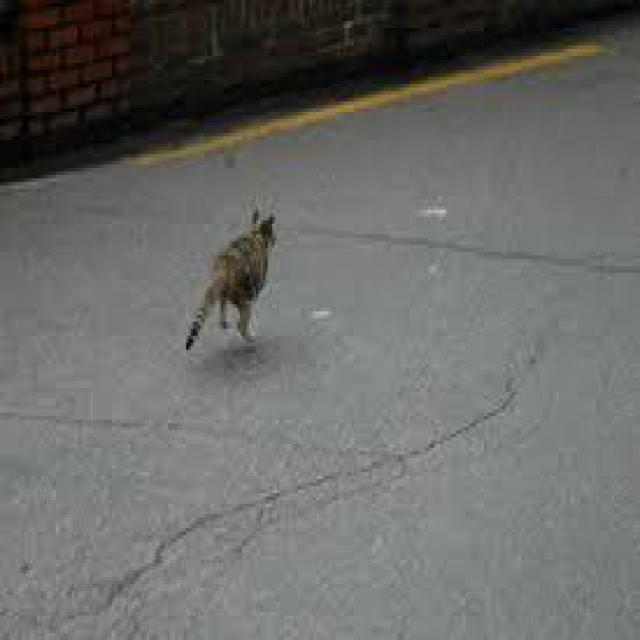cat: (150, 153, 299, 377)
